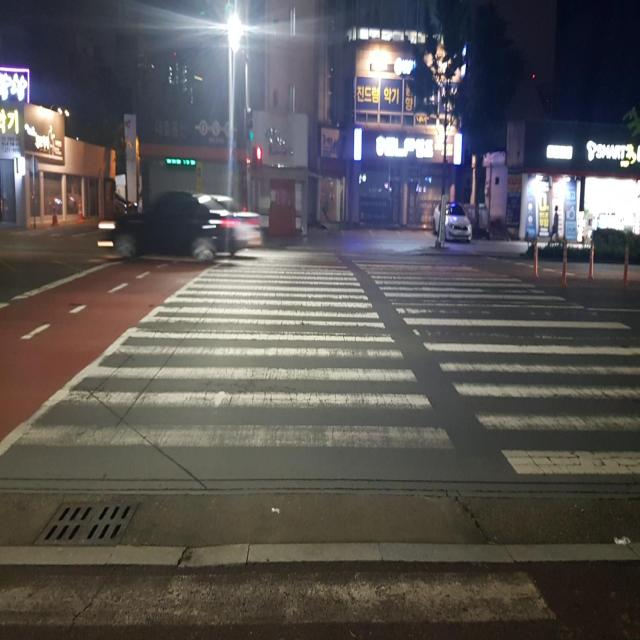횡단보도: (11, 245, 640, 481)
